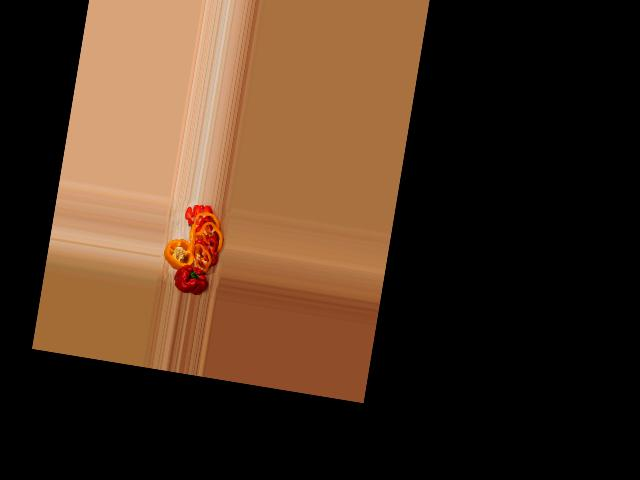bell_pepper: (161, 234, 197, 270)
